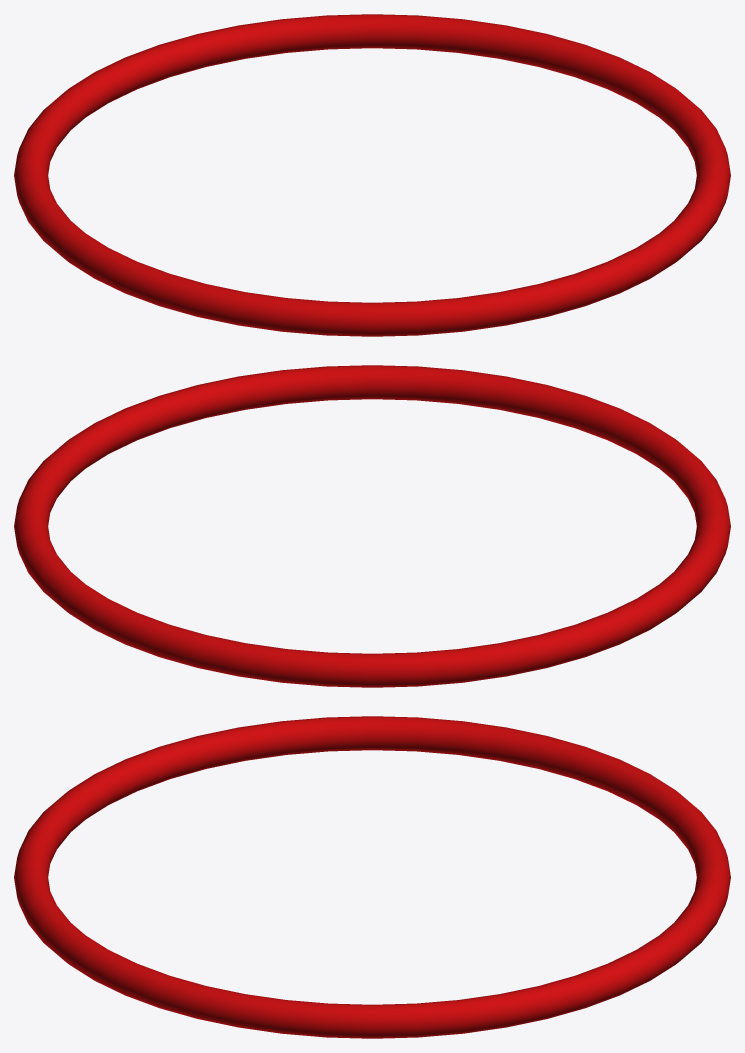
Rendered from rotateGizmoRed.obj.
3 views of the same model, one above another, from view 1: azimuth 30°, elevation 25°; view 2: azimuth 150°, elevation 25°; view 3: azimuth 270°, elevation 25° (orthographic).
Visible parts, largest first — view 1: Torus; view 2: Torus; view 3: Torus.
Boxes of the visible parts, x1=… form: Torus: x1=14, y1=14, x2=730, y2=336; Torus: x1=14, y1=365, x2=730, y2=687; Torus: x1=14, y1=716, x2=730, y2=1038.
Bounding box in the file's own units: 0.525 × 0.025 × 0.525.
